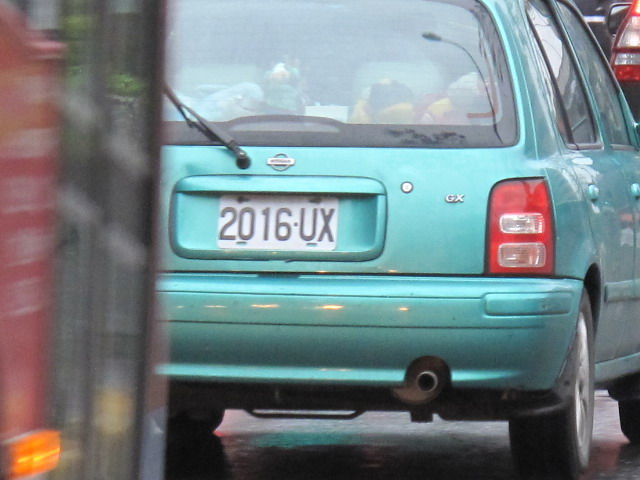plate: (217, 189, 340, 255)
